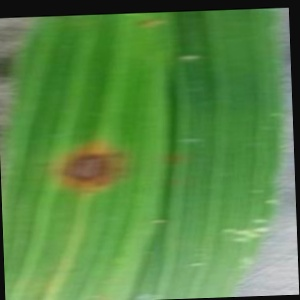Bacterial_Leaf_Blight: (54, 141, 133, 198)
